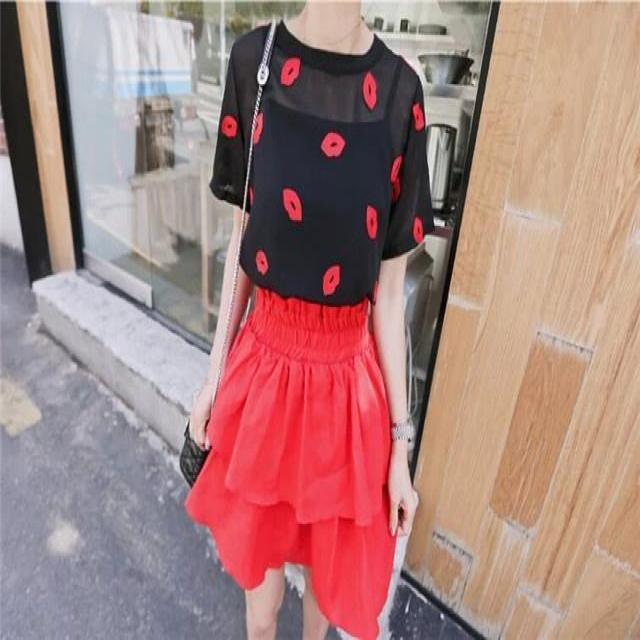short-sleeve-dress: (204, 30, 454, 308)
skirt: (205, 325, 440, 627)
